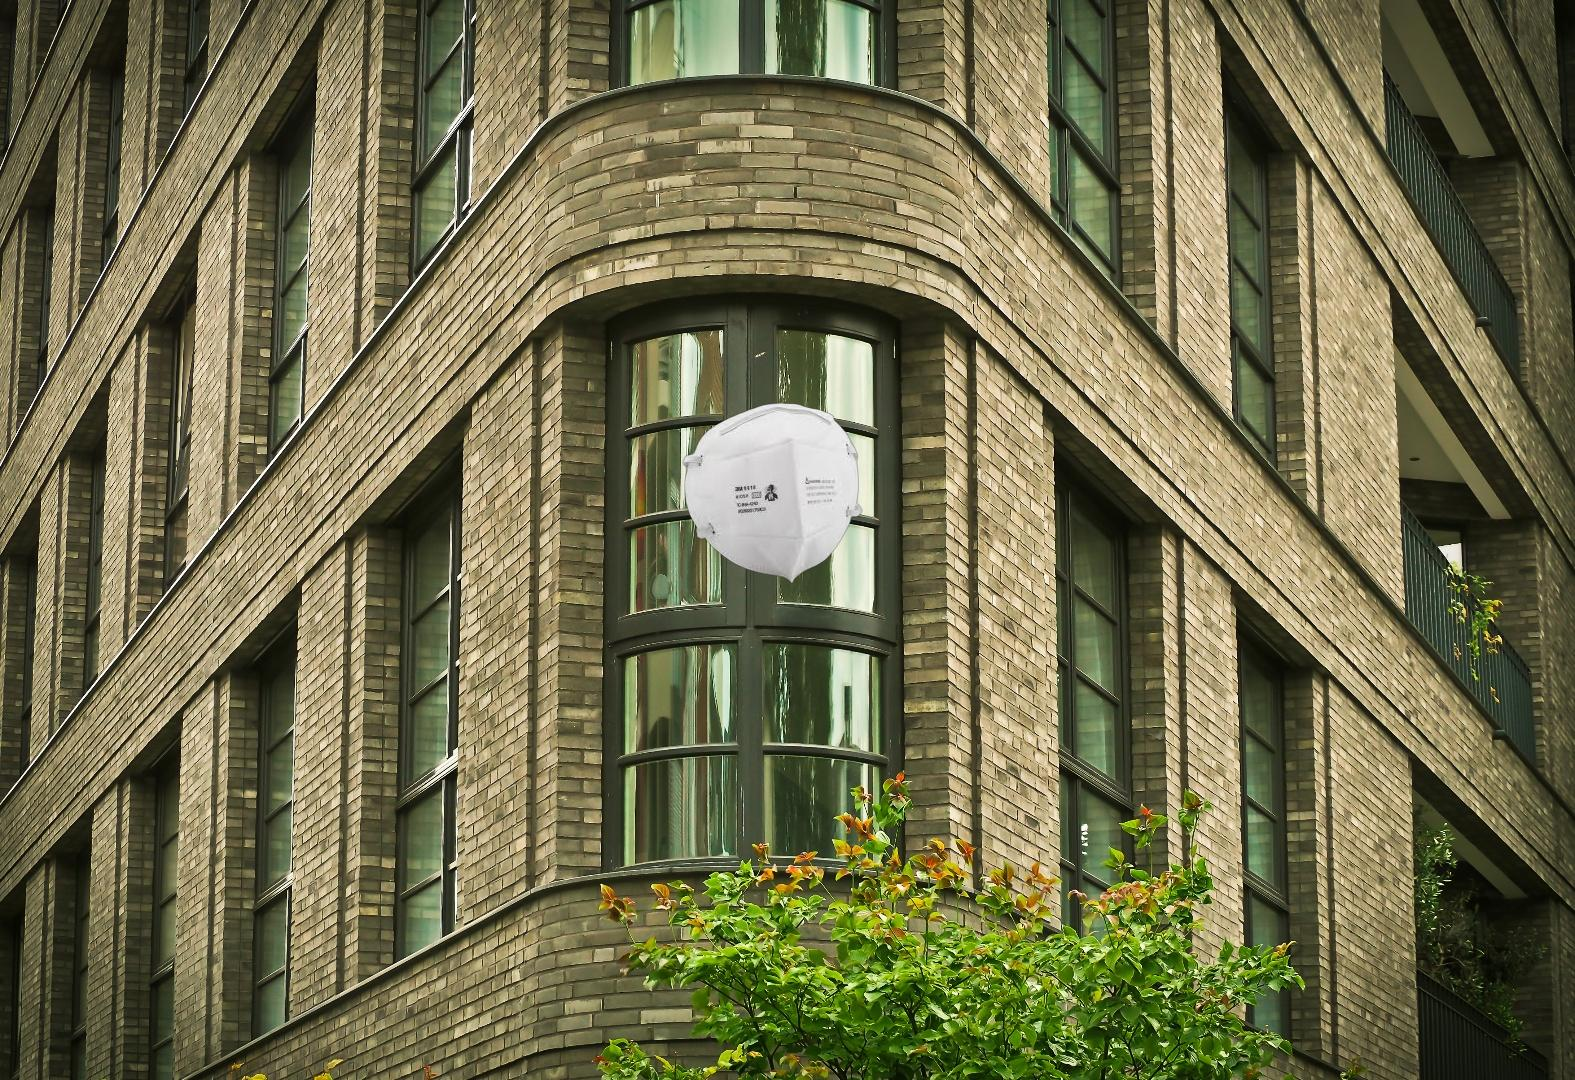trash: (680, 399, 864, 583)
